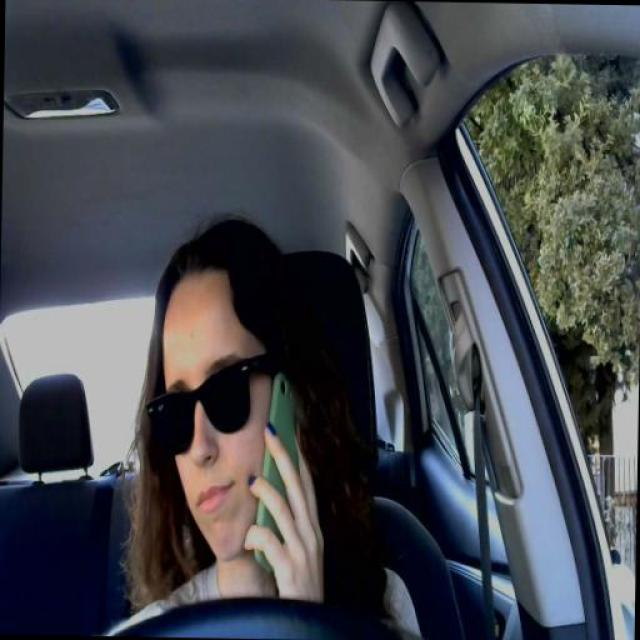phone: (255, 374, 310, 565)
